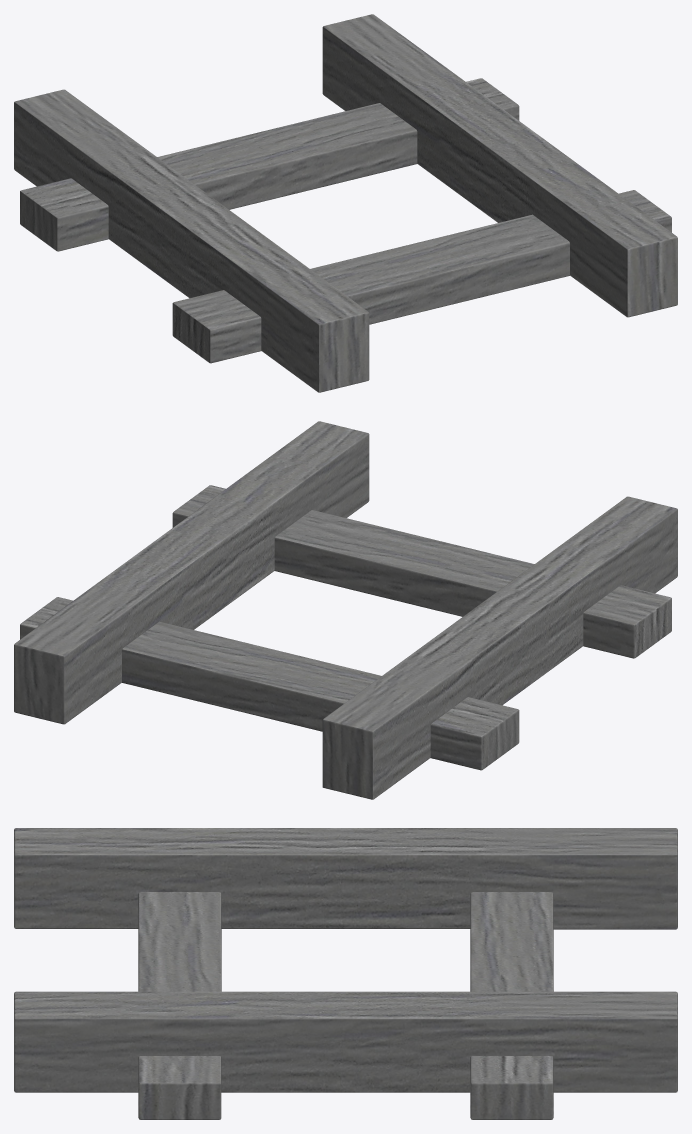
File: RRTrackBlock001.obj
The picture shows the model from 3 angles, top to bottom: view 1: azimuth 30°, elevation 25°; view 2: azimuth 150°, elevation 25°; view 3: azimuth 270°, elevation 25°; orthographic projection. The views are drawn at different scales.
Parts seen in each view (by area): view 1: pCube1; view 2: pCube1; view 3: pCube1.
Boxes of the visible parts, box(x1,y1,x2,y2) form: pCube1: box(14, 14, 677, 392); pCube1: box(14, 421, 677, 799); pCube1: box(14, 828, 677, 1119).
Bounding box in the file's own units: 350 × 50 × 400.
2 materials, 2 textured.
